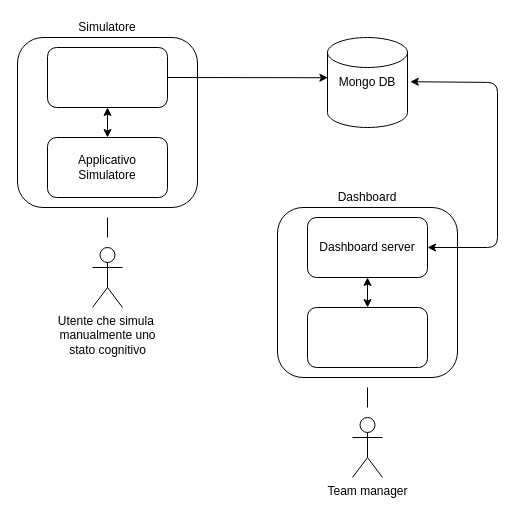
Image size: 524x515. Some labels were removed from this diagram. The shapes that lost their labels are listed below. From the top down, each one's centre as x and y in pixels, then its label:
[107,77]: Simulation server
[367,337]: Applicativo Dashboard
